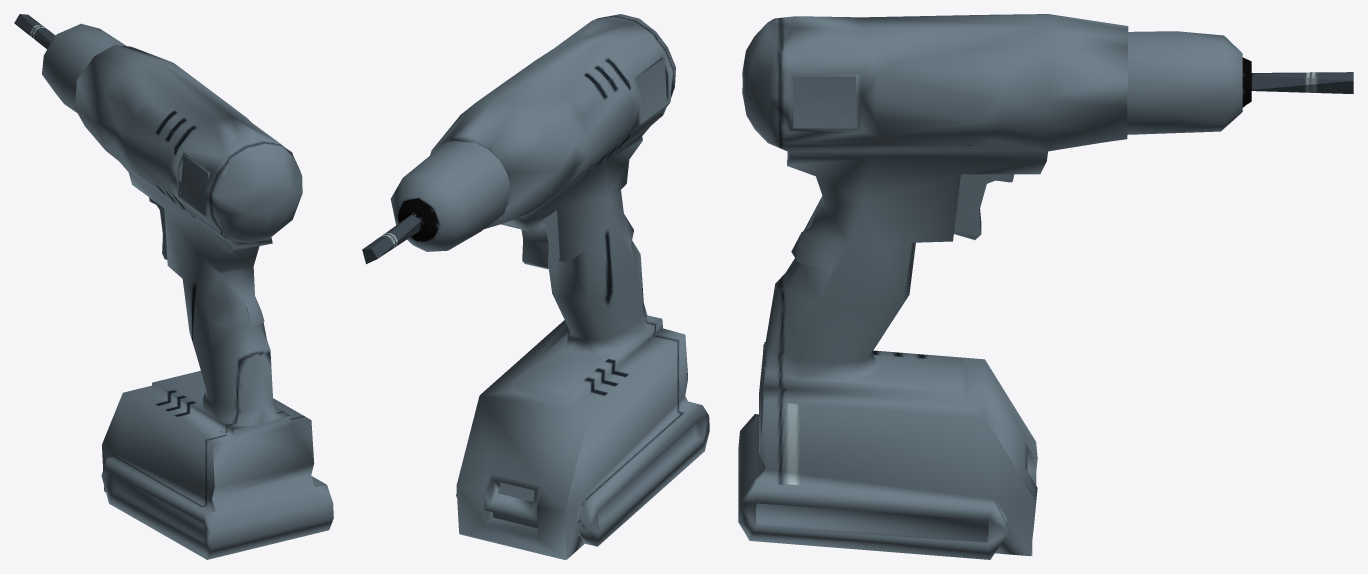
The model's file is repair_kit.glb.
3 views of the same model, side by side, from view 1: azimuth 30°, elevation 25°; view 2: azimuth 150°, elevation 25°; view 3: azimuth 270°, elevation 25° (orthographic). The views are drawn at different scales.
Parts seen in each view (by area): view 1: repair_kit; view 2: repair_kit; view 3: repair_kit.
Part boxes in pixels (box(x1,y1,x2,y2)): repair_kit: box(14, 14, 333, 559); repair_kit: box(362, 14, 709, 559); repair_kit: box(738, 14, 1353, 559).
Size of the model in its own units: 0.101 by 0.3263 by 0.3597.
1 material, 1 textured.
